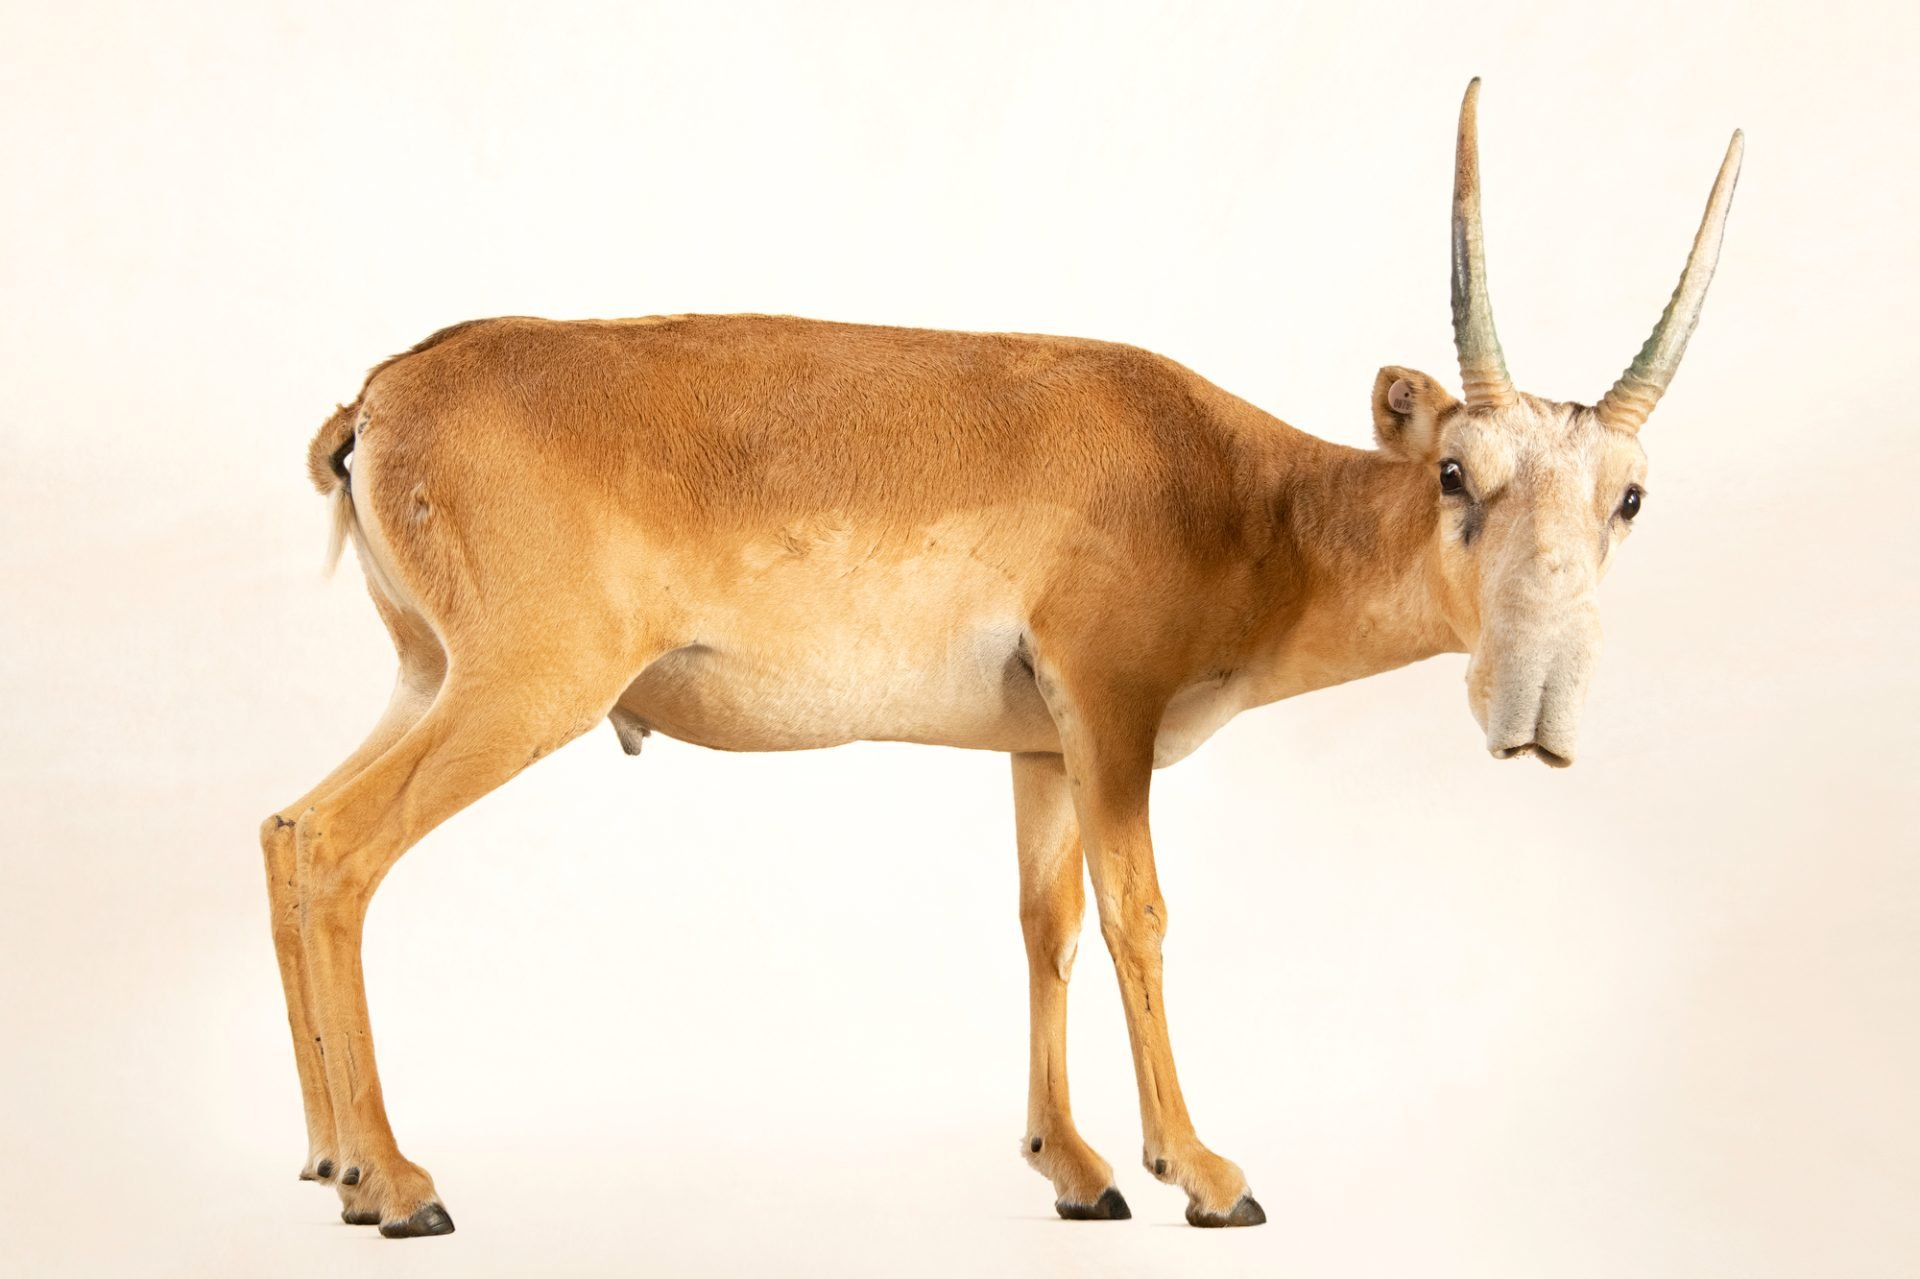saiga: (256, 73, 1753, 1240)
